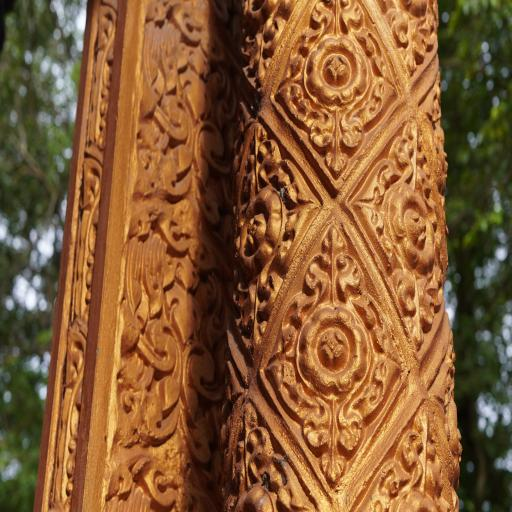hoa: (297, 297, 371, 400), (388, 180, 439, 278), (306, 32, 370, 108), (235, 184, 287, 270), (236, 482, 277, 512), (446, 395, 465, 450)
la: (110, 190, 225, 466), (129, 0, 240, 227), (352, 401, 464, 512), (284, 94, 389, 180), (356, 287, 412, 421), (220, 390, 290, 487), (104, 453, 217, 512), (296, 393, 369, 484), (296, 220, 370, 308), (239, 0, 307, 91), (266, 282, 306, 433), (72, 148, 102, 346), (50, 330, 82, 512), (347, 160, 395, 280), (434, 336, 470, 480), (376, 0, 442, 77), (388, 264, 446, 351), (90, 0, 120, 152), (230, 264, 284, 348), (281, 150, 323, 254), (232, 123, 286, 197), (392, 119, 442, 188), (368, 27, 403, 122), (277, 28, 308, 127), (307, 0, 371, 39), (279, 453, 321, 512), (425, 80, 452, 168)
